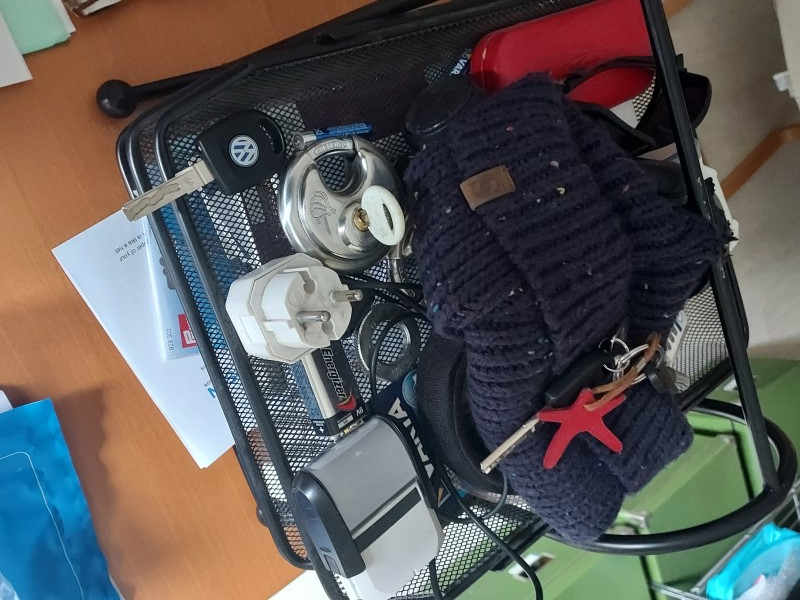key: (125, 104, 288, 224), (474, 336, 599, 489), (350, 175, 405, 250)
